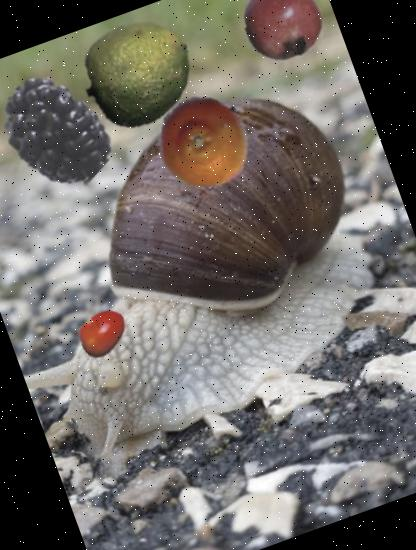Kaki: (70, 299, 137, 366)
Limes: (68, 3, 209, 144)
Mulberry: (0, 55, 130, 208)
Pomegranate: (230, 0, 334, 71)
Tangelo: (145, 81, 265, 201)
